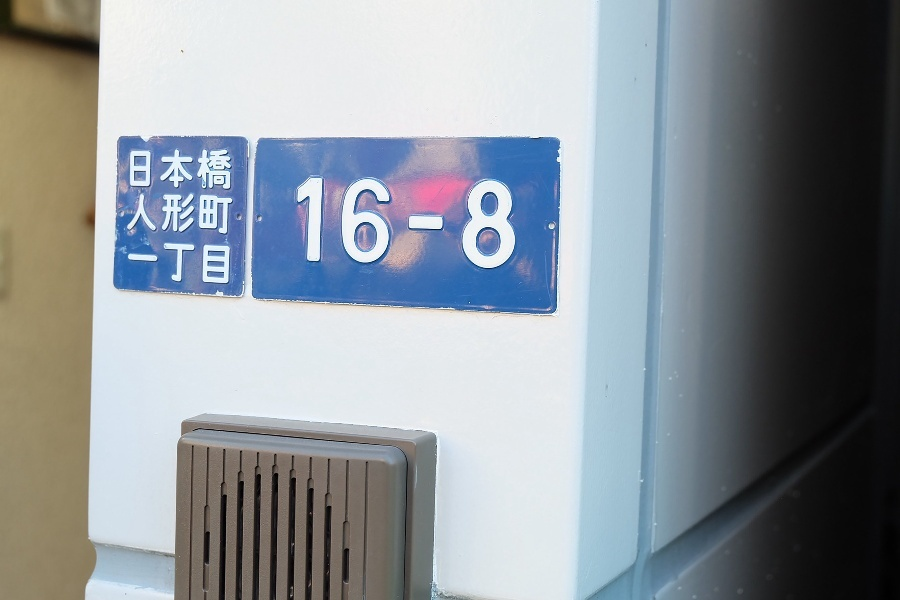text: (305, 175, 320, 271), (321, 175, 336, 271), (337, 175, 352, 271), (353, 175, 368, 271), (369, 175, 384, 271), (385, 175, 400, 271), (401, 175, 416, 271), (417, 175, 432, 271), (433, 175, 448, 271), (449, 175, 464, 271), (465, 175, 480, 271), (481, 175, 496, 271), (497, 175, 512, 271), (295, 175, 304, 271), (129, 147, 144, 195), (145, 147, 160, 195), (161, 147, 176, 195), (177, 147, 192, 195), (193, 147, 208, 195), (209, 147, 224, 195), (145, 192, 160, 239), (161, 192, 176, 239), (177, 192, 192, 239), (193, 192, 208, 239), (209, 192, 224, 239), (145, 243, 160, 290), (161, 243, 176, 290), (177, 243, 192, 290), (193, 243, 208, 290), (209, 243, 224, 290), (130, 243, 144, 290), (225, 192, 236, 239), (225, 147, 235, 195), (225, 243, 234, 290), (513, 175, 517, 271), (138, 192, 144, 239), (127, 147, 128, 195)
